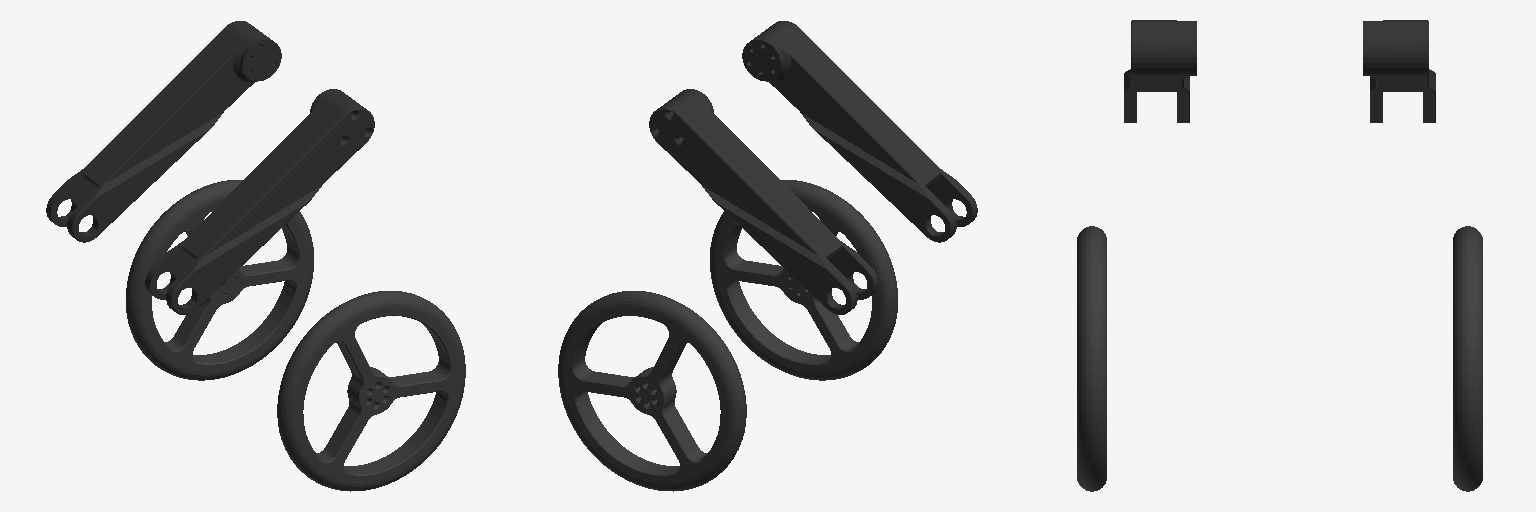
robot.urdf — rhea:
<?xml version="1.0"?>
<!-- created with Phobos 1.0.1 "Capricious Choutengan" -->
  <robot name="rhea">

    <link name="base_link">
      <inertial>
        <origin xyz="0 0 0" rpy="0 0 0"/>
        <mass value="3.0"/>
        <inertia ixx="0.001" ixy="0" ixz="0" iyy="0.001" iyz="0" izz="0.001"/>
      </inertial>
      <visual name="rhea_mesh">
        <origin xyz="0 0 0" rpy="0 0 0"/>
        <geometry>
          <mesh filename="../meshes/dae/simple_bot_mesh.dae" scale="1.0 1.0 1.0"/>
        </geometry>
        <material name="Aluminum_-_Anodized_Rough_(Grey)_1"/>
      </visual>
      <collision name="Cube">
        <origin xyz="0 0 0" rpy="0 0 0"/>
        <geometry>
          <box size="0.24 0.14 0.22"/>
        </geometry>
      </collision>
    </link>

    <link name="imu">
    </link>

    <link name="leg_1_l">
      <inertial>
        <origin xyz="0 0 0" rpy="0 0 0"/>
        <mass value="0.1"/>
        <inertia ixx="0.001" ixy="0" ixz="0" iyy="0.001" iyz="0" izz="0.001"/>
      </inertial>
      <visual name="rhea_mesh.006">
        <origin xyz="0 0 0" rpy="1.5708 0 -2.0944"/>
        <geometry>
          <mesh filename="../meshes/dae/simple_bot_mesh.006.dae" scale="1.0 1.0 1.0"/>
        </geometry>
        <material name="PA_12_-_Nylon_-_PA_603-CF_(with_EOS_P_3D_Printers)"/>
      </visual>
    </link>

    <link name="leg_1_r">
      <inertial>
        <origin xyz="0 0 0" rpy="0 0 0"/>
        <mass value="0.1"/>
        <inertia ixx="0.001" ixy="0" ixz="0" iyy="0.001" iyz="0" izz="0.001"/>
      </inertial>
      <visual name="rhea_mesh.003">
        <origin xyz="0 0 0" rpy="-1.5708 0 2.0944"/>
        <geometry>
          <mesh filename="../meshes/dae/simple_bot_mesh.003.dae" scale="1.0 1.0 1.0"/>
        </geometry>
        <material name="PA_12_-_Nylon_-_PA_603-CF_(with_EOS_P_3D_Printers)"/>
      </visual>
    </link>

    <link name="leg_2_l">
      <inertial>
        <origin xyz="0 0 0" rpy="0 0 0"/>
        <mass value="0.1"/>
        <inertia ixx="0.001" ixy="0" ixz="0" iyy="0.001" iyz="0" izz="0.001"/>
      </inertial>
      <visual name="rhea_mesh.005">
        <origin xyz="0 0 0" rpy="1.5708 0 -1.0472"/>
        <geometry>
          <mesh filename="../meshes/dae/simple_bot_mesh.005.dae" scale="1.0 1.0 1.0"/>
        </geometry>
        <material name="PA_12_-_Nylon_-_PA_603-CF_(with_EOS_P_3D_Printers)"/>
      </visual>
      <collision name="Cylinder.002">
        <origin xyz="-0.025 0.065 -0.00764" rpy="0 0 -1.0472"/>
        <geometry>
          <cylinder radius="0.03428" length="0.02438"/>
        </geometry>
      </collision>
    </link>

    <link name="leg_2_r">
      <inertial>
        <origin xyz="0 0 0" rpy="0 0 0"/>
        <mass value="0.1"/>
        <inertia ixx="0.001" ixy="0" ixz="0" iyy="0.001" iyz="0" izz="0.001"/>
      </inertial>
      <visual name="rhea_mesh.002">
        <origin xyz="0 0 0" rpy="-1.5708 0 1.0472"/>
        <geometry>
          <mesh filename="../meshes/dae/simple_bot_mesh.002.dae" scale="1.0 1.0 1.0"/>
        </geometry>
        <material name="PA_12_-_Nylon_-_PA_603-CF_(with_EOS_P_3D_Printers)"/>
      </visual>
      <collision name="Cylinder">
        <origin xyz="-0.025 -0.065 -0.00764" rpy="0 0 1.0472"/>
        <geometry>
          <cylinder radius="0.03428" length="0.02438"/>
        </geometry>
      </collision>
    </link>

    <link name="wheel_l">
      <inertial>
        <origin xyz="0 0 0" rpy="0 0 0"/>
        <mass value="0.4"/>
        <inertia ixx="0.001" ixy="0" ixz="0" iyy="0.001" iyz="0" izz="0.001"/>
      </inertial>
      <visual name="rhea_mesh.004">
        <origin xyz="0 0 0" rpy="1.5708 0 -1.0472"/>
        <geometry>
          <mesh filename="../meshes/dae/simple_bot_mesh.004.dae" scale="1.0 1.0 1.0"/>
        </geometry>
        <material name="Aluminum_-_Anodized_Rough_(Grey)"/>
      </visual>
      <collision name="Cylinder.003">
        <origin xyz="0 0 0.0415" rpy="0 0 -1.0472"/>
        <geometry>
          <cylinder radius="0.1" length="0.024"/>
        </geometry>
      </collision>
    </link>

    <link name="wheel_r">
      <inertial>
        <origin xyz="0 0 0" rpy="0 0 0"/>
        <mass value="0.4"/>
        <inertia ixx="0.001" ixy="0" ixz="0" iyy="0.001" iyz="0" izz="0.001"/>
      </inertial>
      <visual name="rhea_mesh.001">
        <origin xyz="0 0 0" rpy="-1.5708 0 1.0472"/>
        <geometry>
          <mesh filename="../meshes/dae/simple_bot_mesh.001.dae" scale="1.0 1.0 1.0"/>
        </geometry>
        <material name="Aluminum_-_Anodized_Rough_(Grey)"/>
      </visual>
      <collision name="Cylinder.001">
        <origin xyz="0 0 0.0415" rpy="0 0 1.0472"/>
        <geometry>
          <cylinder radius="0.1" length="0.024"/>
        </geometry>
      </collision>
    </link>

    <joint name="imu" type="fixed">
      <origin xyz="0 0 0" rpy="0 0 0"/>
      <parent link="base_link"/>
      <child link="imu"/>
    </joint>

    <joint name="leg_1_l" type="revolute">
      <origin xyz="0 0.1 0" rpy="-1.5708 1.5708 0"/>
      <parent link="base_link"/>
      <child link="leg_1_l"/>
      <axis xyz="0 0 1.0"/>
      <limit lower="0.5236" upper="1.39626" effort="35.0" velocity="26.0"/>
    </joint>

    <joint name="leg_1_r" type="revolute">
      <origin xyz="0 -0.1 0" rpy="1.5708 1.5708 0"/>
      <parent link="base_link"/>
      <child link="leg_1_r"/>
      <axis xyz="0 0 1.0"/>
      <limit lower="-1.39626" upper="-0.5236" effort="35.0" velocity="26.0"/>
    </joint>

    <joint name="leg_2_l" type="revolute">
      <origin xyz="0.225 0 0" rpy="0 0 0"/>
      <parent link="leg_1_l"/>
      <child link="leg_2_l"/>
      <axis xyz="0 0 1.0"/>
      <limit lower="-2.79253" upper="-1.0472" effort="35.0" velocity="26.0"/>
    </joint>

    <joint name="leg_2_r" type="revolute">
      <origin xyz="0.225 0 0" rpy="0 0 0"/>
      <parent link="leg_1_r"/>
      <child link="leg_2_r"/>
      <axis xyz="0 0 1.0"/>
      <limit lower="1.0472" upper="2.79253" effort="35.0" velocity="26.0"/>
    </joint>

    <joint name="wheel_l" type="continuous">
      <origin xyz="0.225 0 0" rpy="0 0 0"/>
      <parent link="leg_2_l"/>
      <child link="wheel_l"/>
      <axis xyz="0 0 1.0"/>
      <limit effort="9.0" velocity="42.0"/>
    </joint>

    <joint name="wheel_r" type="continuous">
      <origin xyz="0.225 0 0" rpy="0 0 0"/>
      <parent link="leg_2_r"/>
      <child link="wheel_r"/>
      <axis xyz="0 0 1.0"/>
      <limit effort="9.0" velocity="42.0"/>
    </joint>

    <material name="Aluminum_-_Anodized_Rough_(Grey)">
      <color rgba="0.28627 0.28627 0.28627 1.0"/>
    </material>

    <material name="Aluminum_-_Anodized_Rough_(Grey)_1">
      <color rgba="0.28627 0.28627 0.28627 1.0"/>
    </material>

    <material name="PA_12_-_Nylon_-_PA_603-CF_(with_EOS_P_3D_Printers)">
      <color rgba="0.24706 0.24706 0.24706 1.0"/>
    </material>

  </robot>

--- Facts derived from the render (not from the file) ---
The picture shows the robot from 3 angles, left to right: view 1: azimuth 30°, elevation 25°; view 2: azimuth 150°, elevation 25°; view 3: azimuth 270°, elevation 25°; orthographic projection.
Model rhea with 8 links and 7 joints (4 revolute, 2 continuous, 1 fixed), rooted at base_link, posed joints at zero except 4 at the middle of their limits (leg_1_l = 0.9599, leg_1_r = -0.9599, leg_2_l = -1.92, leg_2_r = 1.92).
Visible links, largest first — view 1: wheel_r, leg_1_l, leg_1_r, wheel_l; view 2: wheel_l, leg_1_r, leg_1_l, wheel_r; view 3: wheel_l, wheel_r, leg_1_l, leg_1_r.
Boxes of the visible links, x1,y1,x2,y2 form: wheel_r: [277, 291, 465, 491]; leg_1_l: [46, 21, 281, 242]; leg_1_r: [145, 89, 374, 314]; wheel_l: [126, 180, 313, 380]; wheel_l: [558, 291, 746, 491]; leg_1_r: [742, 21, 977, 242]; leg_1_l: [649, 89, 878, 314]; wheel_r: [710, 180, 897, 380]; wheel_l: [1453, 226, 1482, 491]; wheel_r: [1077, 226, 1106, 491]; leg_1_l: [1363, 20, 1435, 122]; leg_1_r: [1124, 20, 1196, 122].
Size in the robot's own frame: 0.3016 by 0.306 by 0.3789 metres.
Meshes: 7 distinct files referenced, 4 mesh visuals loaded (4 Collada DAE); not drawn: 3 (reference not matched to a file when rendering).
